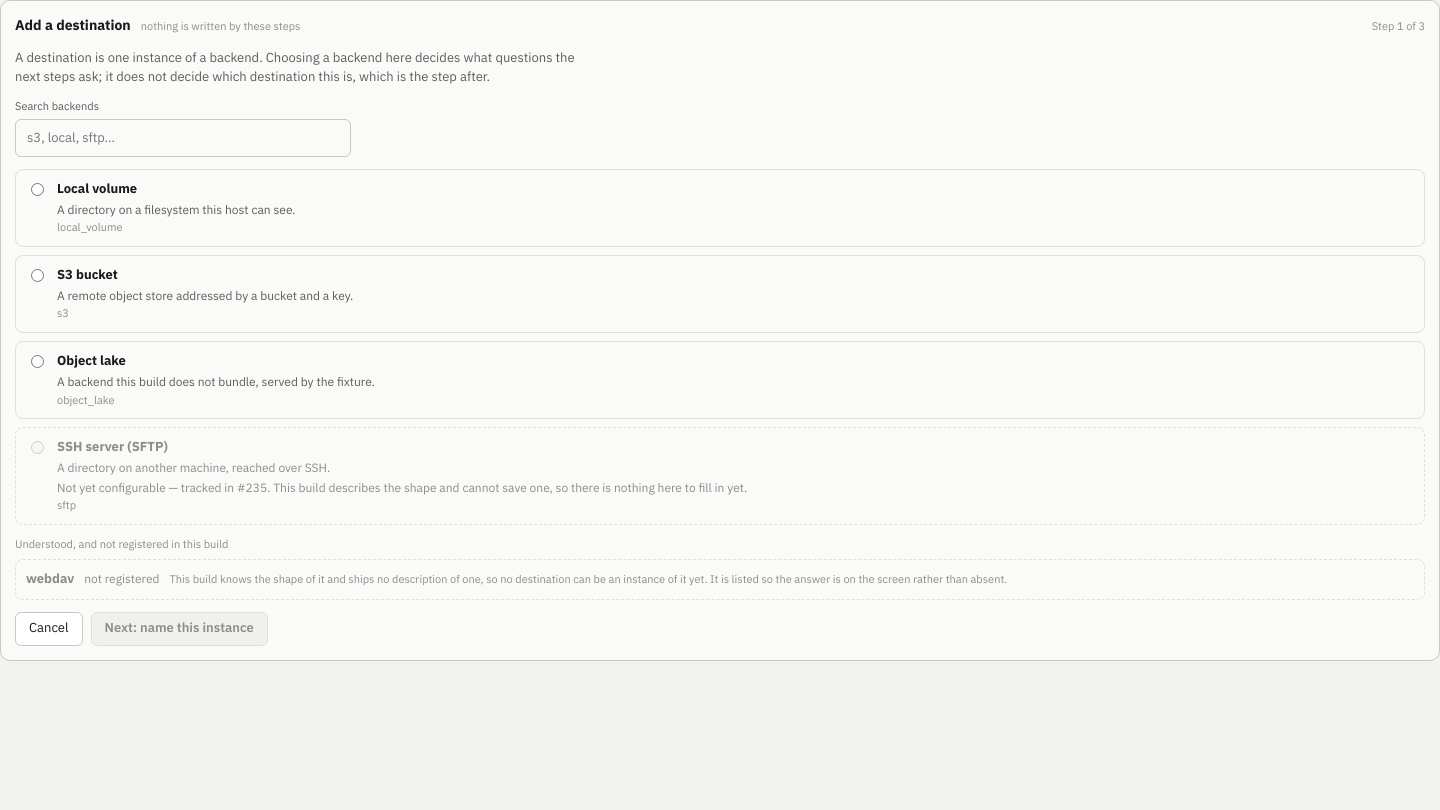
Test: naming the instance (#668 step 2) › lists the instances that already exist on the chosen backend, so uniqueness is visible where it applies
The width and height of the screenshot is (1440, 810).
Click the radio button labelled "S3 bucket": (38, 276) [31,269,44,282]
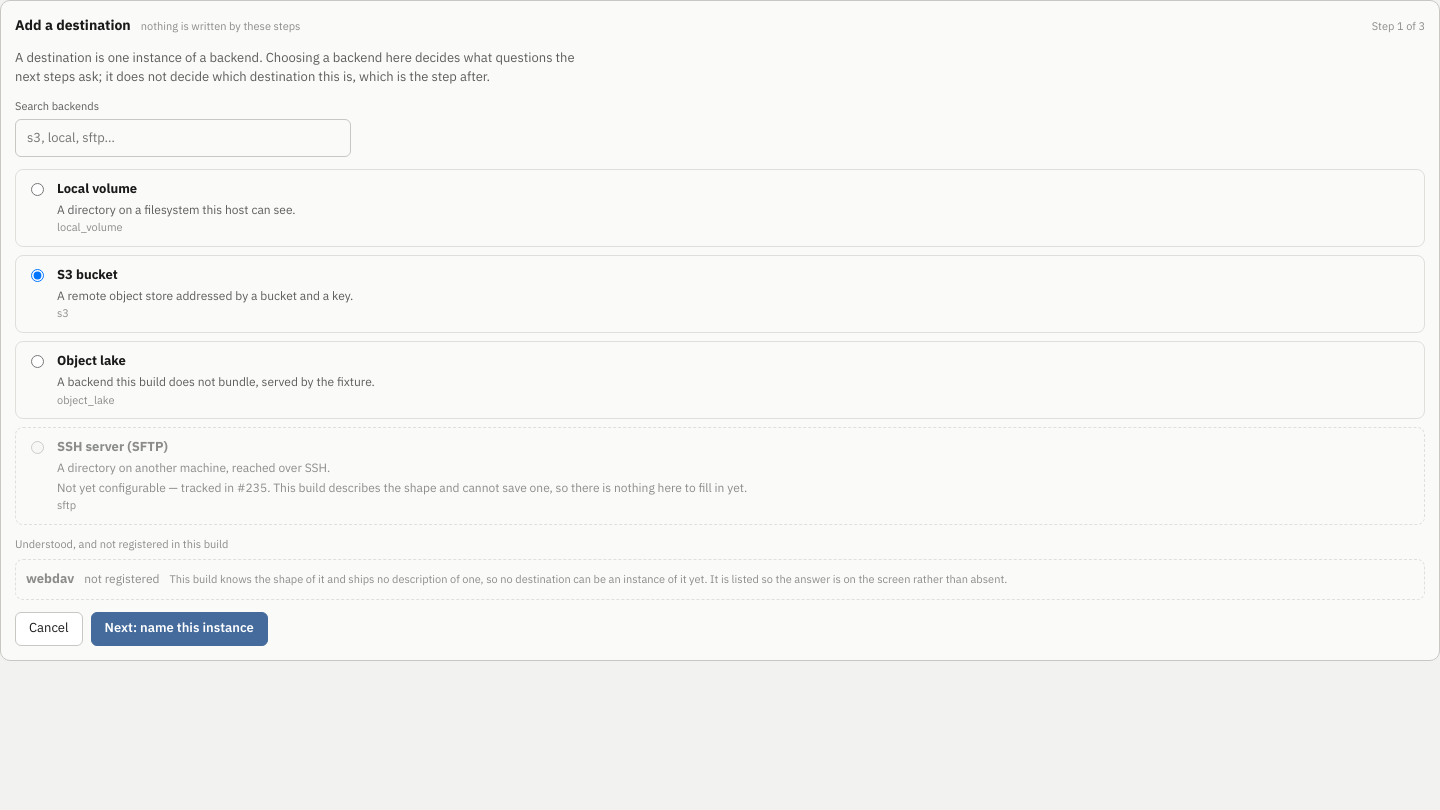
Click the button "Next: name this instance": (179, 629) [90,612,268,646]
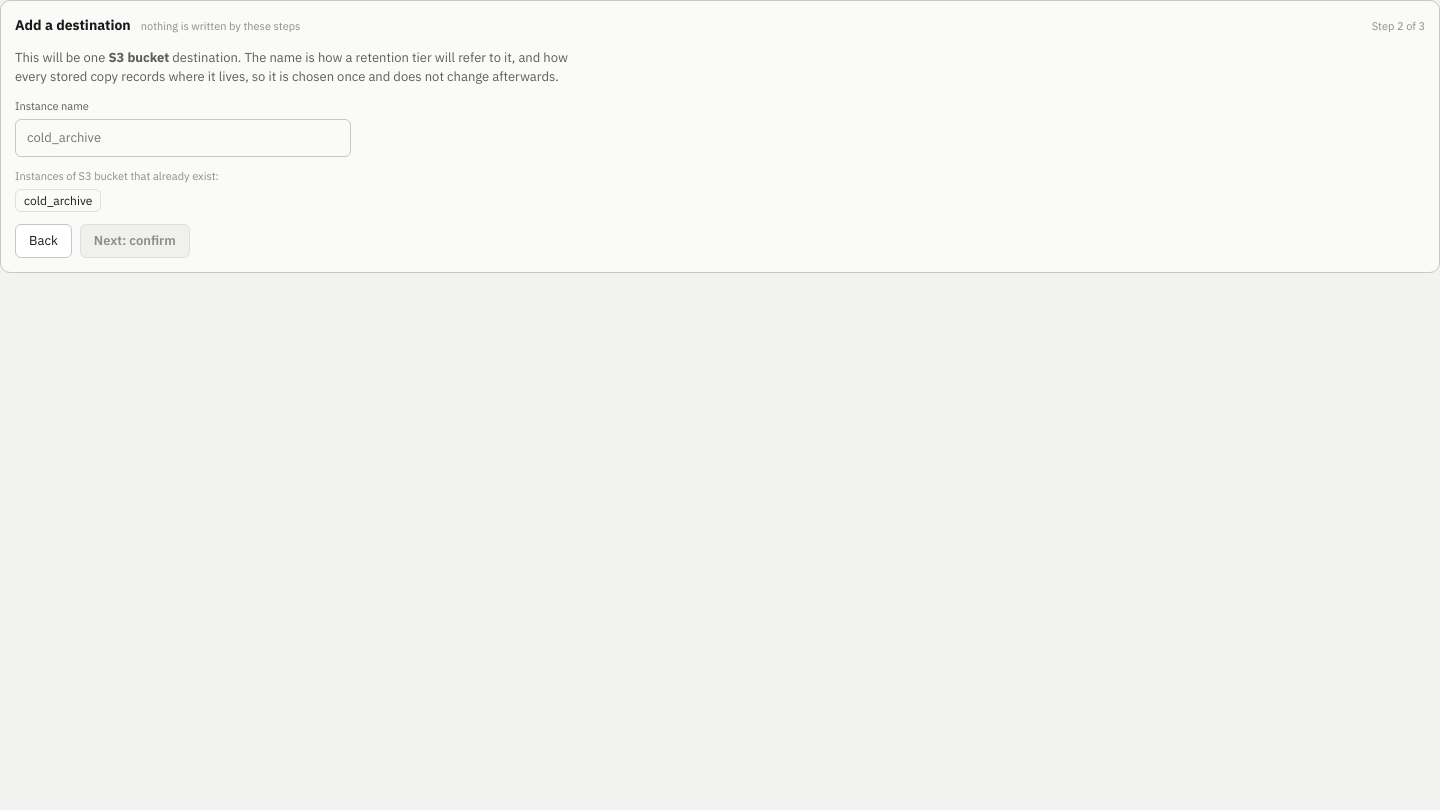
Expected: the field labelled "Instance name" is shown, [15,119,351,157]
Result: the list item "cold_archive" is shown at [15,189,101,212]
